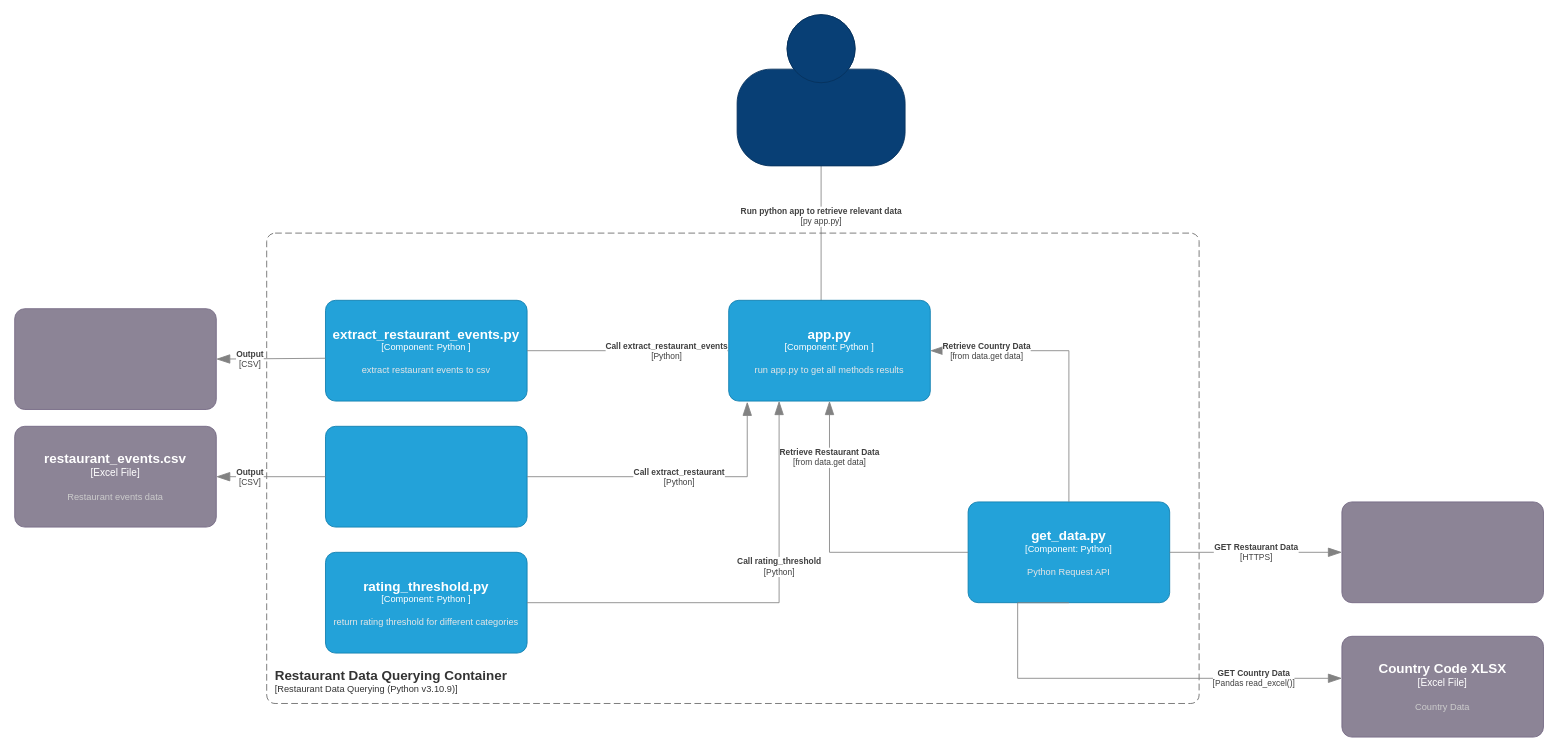
This 1558x752 diagram has some shape labels left out. Here are the shapes that lost their labels. From the top down, the centre of each, then its label:
At point 820,90: "User [Restaurant Data Querying App User] User of restaurant app".
At point 115,359: "restaurants.csv [Repository] CSV File generated from extract_restaurants.csv".
At point 426,476: "extract_restaurant.py [Component: Python ] extract restaurant data to csv".
At point 1442,552: "Github Raw Restaurant Data JSON [Repository] Restaurant Data".
